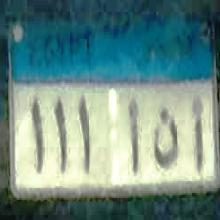1: (77, 94, 96, 174), (28, 92, 46, 176), (54, 96, 72, 176)
alif: (188, 94, 206, 173), (126, 99, 140, 170)
noon: (152, 103, 178, 173)
